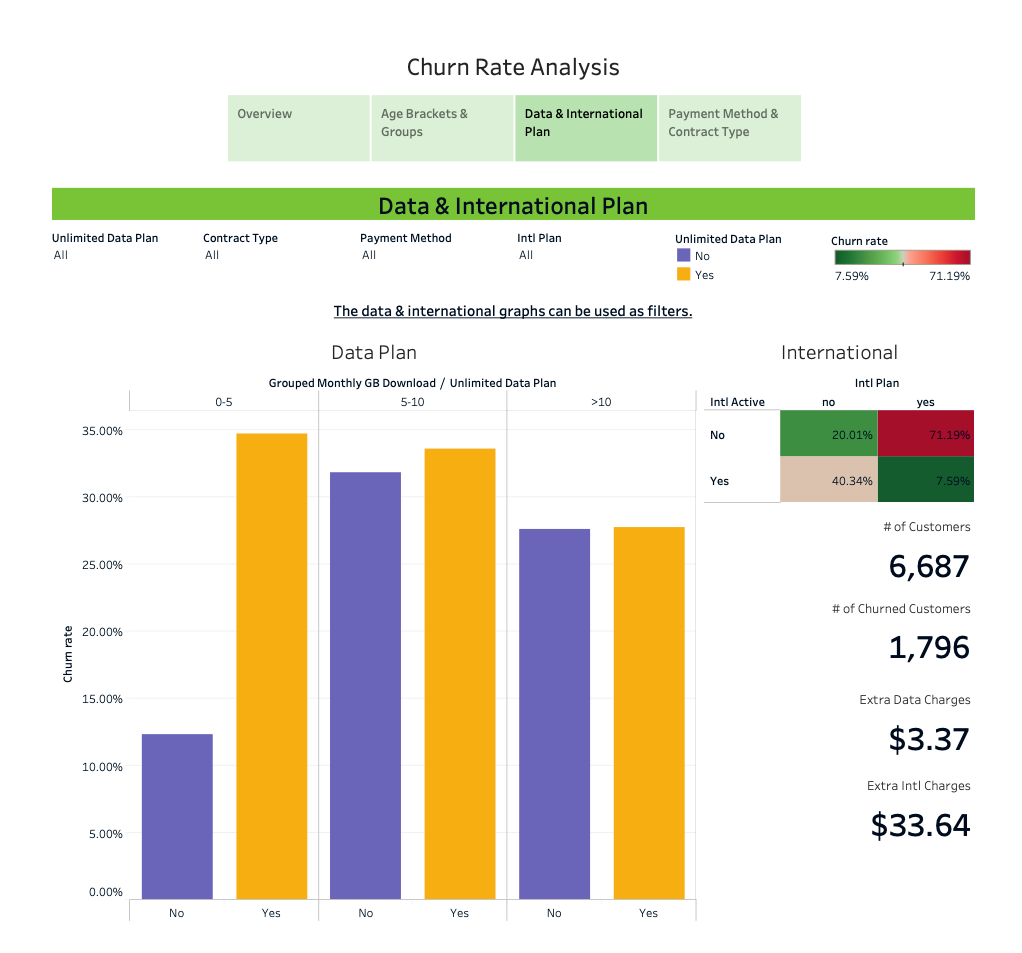

The page's visual inventory and layout, read from the dashboard file:
{"tool":"tableau","page":{"name":"Data & International Plan ","canvas":[1000,800],"ordinal":1},"visuals":[{"type":"title","box":[8,8,984,41]},{"type":"filter","title":"Data Plan","param":"[federated.1559pdh1893exj185r2jq1n05w4m].[none:Unlimited Data Plan:nk]","box":[8,49,160,71.1]},{"type":"filter","title":"Data Plan","param":"[federated.1559pdh1893exj185r2jq1n05w4m].[none:Contract Type:nk]","box":[168,49,166,71.1]},{"type":"filter","title":"Data Plan","param":"[federated.1559pdh1893exj185r2jq1n05w4m].[none:Payment Method:nk]","box":[334,49,166,71.1]},{"type":"filter","title":"Data Plan","param":"[federated.1559pdh1893exj185r2jq1n05w4m].[none:Intl Plan:nk]","box":[500,49,166,71.1]},{"type":"legend","title":"Data Plan","param":"[federated.1559pdh1893exj185r2jq1n05w4m].[none:Unlimited Data Plan:nk]","box":[666,49,166,71.1]},{"type":"legend","title":"International","param":"[federated.1559pdh1893exj185r2jq1n05w4m].[usr:Calculation_161848126833676291:qk]","box":[832,49,160,71.1]},{"type":"text","box":[8,120.1,984,38.9]},{"type":"worksheet","title":"Data Plan","mark":"Automatic","rows":["Calculation_161848126833676291"],"cols":["Calculation_681450935635226625","Unlimited Data Plan"],"box":[8,159,690,633]},{"type":"worksheet","title":"International","mark":"Square","rows":["Intl Active"],"cols":["Intl Plan"],"box":[698,159,294,190.2]},{"type":"worksheet","title":"# of Customers","mark":"Automatic","box":[698,349.2,294,86.8]},{"type":"worksheet","title":"# of Churned Customers","mark":"Automatic","box":[698,436,294,97]},{"type":"worksheet","title":"Extra Data Charges","mark":"Automatic","box":[698,533,294,91]},{"type":"worksheet","title":"Extra Intl Charges","mark":"Automatic","box":[698,624,294,168]}]}

Visuals, with their boxes on the page's 1000x800 design canvas (x1, y1, x2, y2). These are canvas units, not pixel positions in the 1022x953 screenshot, which may show the page scaled, cropped or inside an application window:
title: (left=8, top=8, right=992, bottom=49)
"Data Plan" filter: (left=8, top=49, right=168, bottom=120)
"Data Plan" filter: (left=168, top=49, right=334, bottom=120)
"Data Plan" filter: (left=334, top=49, right=500, bottom=120)
"Data Plan" filter: (left=500, top=49, right=666, bottom=120)
"Data Plan" legend: (left=666, top=49, right=832, bottom=120)
"International" legend: (left=832, top=49, right=992, bottom=120)
text: (left=8, top=120, right=992, bottom=159)
"Data Plan" worksheet: (left=8, top=159, right=698, bottom=792)
"International" worksheet (Square marks): (left=698, top=159, right=992, bottom=349)
"# of Customers" worksheet: (left=698, top=349, right=992, bottom=436)
"# of Churned Customers" worksheet: (left=698, top=436, right=992, bottom=533)
"Extra Data Charges" worksheet: (left=698, top=533, right=992, bottom=624)
"Extra Intl Charges" worksheet: (left=698, top=624, right=992, bottom=792)
